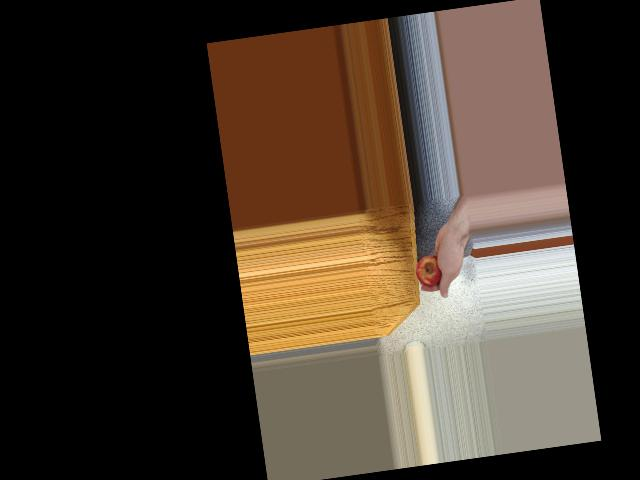apple: (412, 246, 447, 290)
